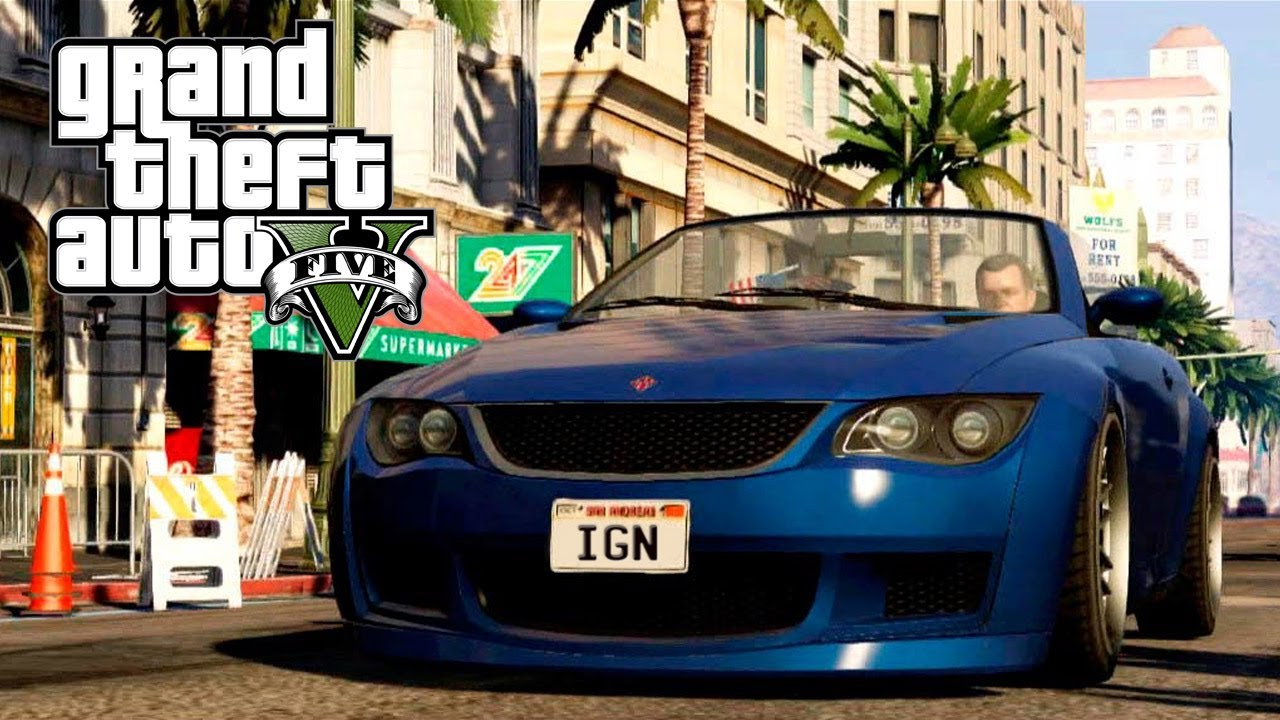license plate: (547, 494, 692, 577)
